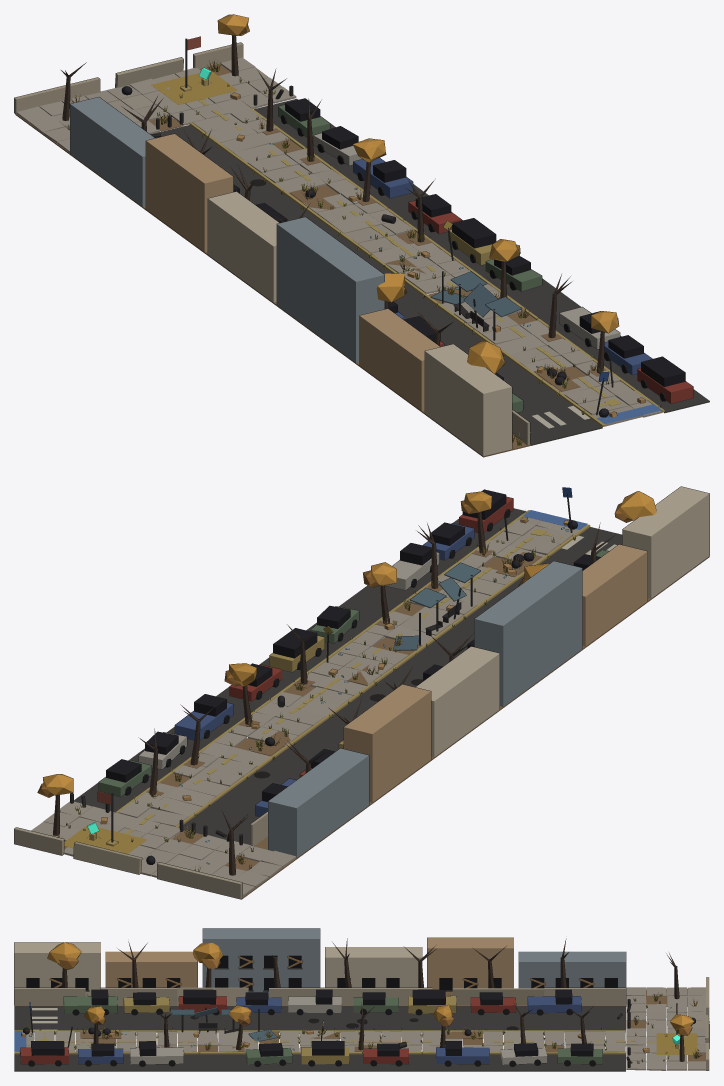
The model's file is Camellon_Deteriorado.fbx.
3 views of the same model, one above another, from view 1: azimuth 30°, elevation 25°; view 2: azimuth 150°, elevation 25°; view 3: azimuth 270°, elevation 25° (orthographic). The views are drawn at different scales.
Visible parts, largest first — view 1: Deteriorado_Estructuras, Deteriorado_Suelo, Deteriorado_Decoracion; view 2: Deteriorado_Estructuras, Deteriorado_Suelo, Deteriorado_Decoracion; view 3: Deteriorado_Estructuras, Deteriorado_Suelo, Deteriorado_Decoracion.
Boxes of the visible parts, x1=… form: Deteriorado_Estructuras: x1=14, y1=42, x2=693, y2=456; Deteriorado_Suelo: x1=15, y1=57, x2=709, y2=457; Deteriorado_Decoracion: x1=61, y1=14, x2=661, y2=445; Deteriorado_Estructuras: x1=14, y1=486, x2=709, y2=899; Deteriorado_Suelo: x1=31, y1=508, x2=709, y2=899; Deteriorado_Decoracion: x1=37, y1=491, x2=656, y2=875; Deteriorado_Estructuras: x1=14, y1=928, x2=709, y2=1070; Deteriorado_Suelo: x1=14, y1=987, x2=705, y2=1071; Deteriorado_Decoracion: x1=19, y1=938, x2=701, y2=1063.
Bounding box in the file's own units: 1903 × 665 × 6825.
Materials: 2 (1 with a texture image).
